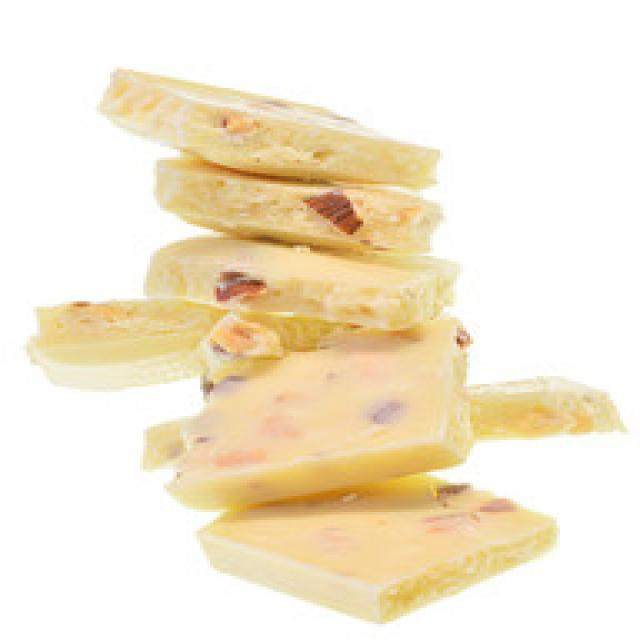chocolate: (31, 67, 620, 615)
